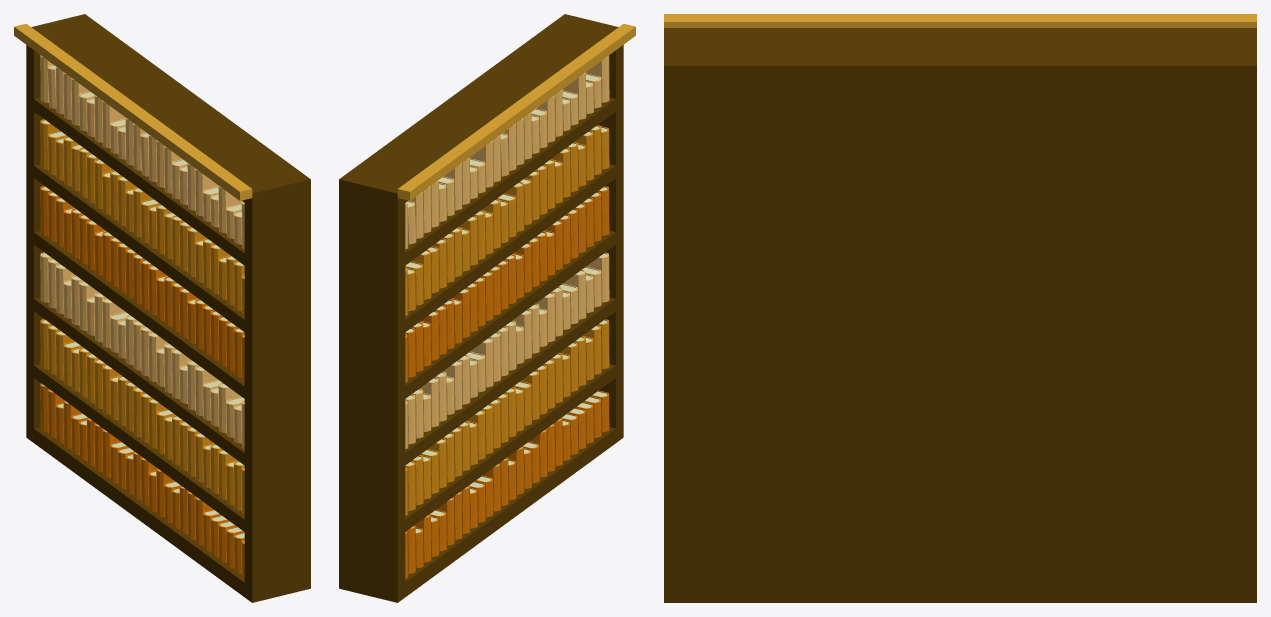
Rendered from bookCase_XL_ladderRail_filled.fbx.
3 renders of one model, left to right at view 1: azimuth 30°, elevation 25°; view 2: azimuth 150°, elevation 25°; view 3: azimuth 270°, elevation 25°, orthographic. The views are drawn at different scales.
Parts seen in each view (by area): view 1: bookCase_XL_ladderRail_filled; view 2: bookCase_XL_ladderRail_filled; view 3: bookCase_XL_ladderRail_filled.
Boxes of the visible parts, <box> form: bookCase_XL_ladderRail_filled: <box>14,14,310,602</box>; bookCase_XL_ladderRail_filled: <box>339,14,635,602</box>; bookCase_XL_ladderRail_filled: <box>664,14,1256,602</box>.
Size of the model in its own units: 36.3 by 202 by 200.
